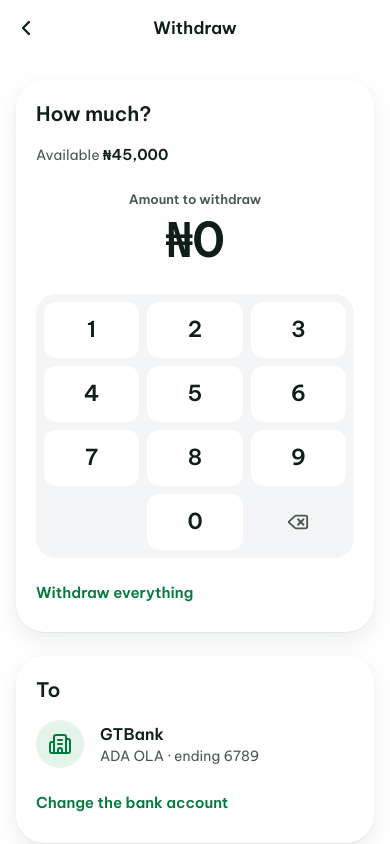
it: taking money out, for real › will not let someone withdraw more than their real balance
Click the button "4": (92, 394) [44,366,139,422]
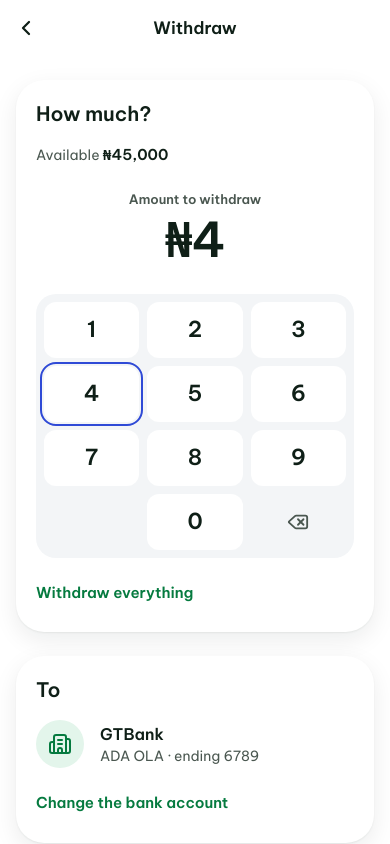
Click the button "6": (298, 394) [251,366,346,422]
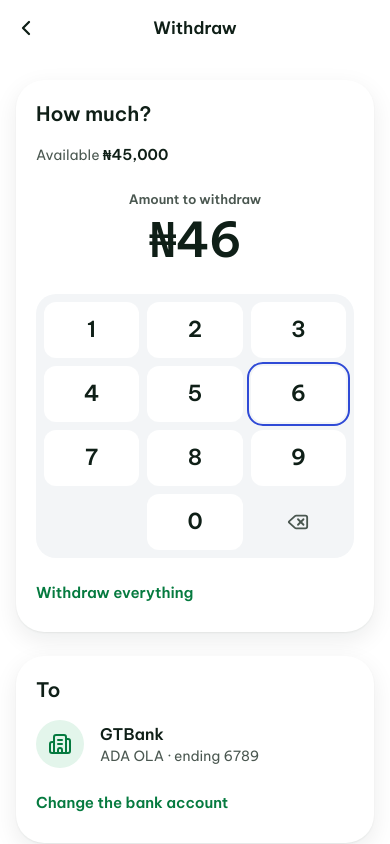
Click the button "0": (195, 522) [147,494,243,550]
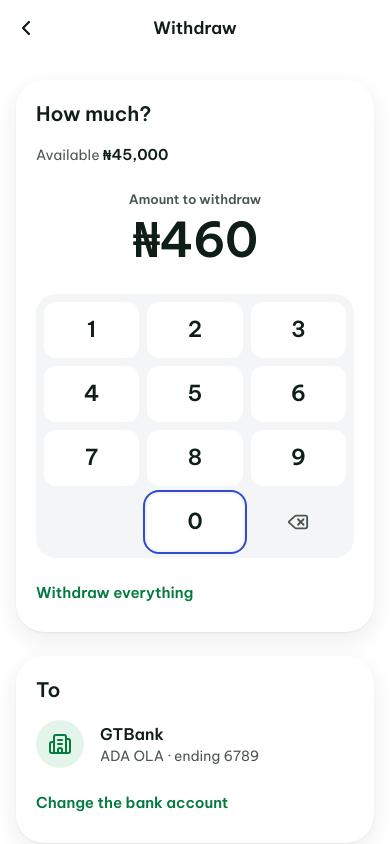
Click the button "0": (195, 522) [147,494,243,550]
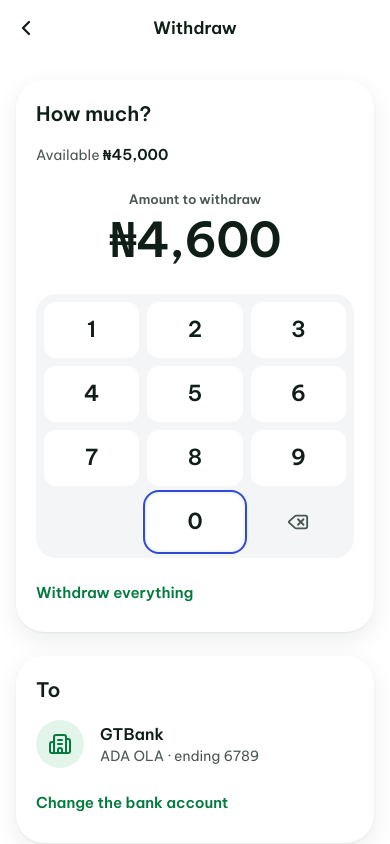
Click the button "0": (195, 522) [147,494,243,550]
(page scrolled)
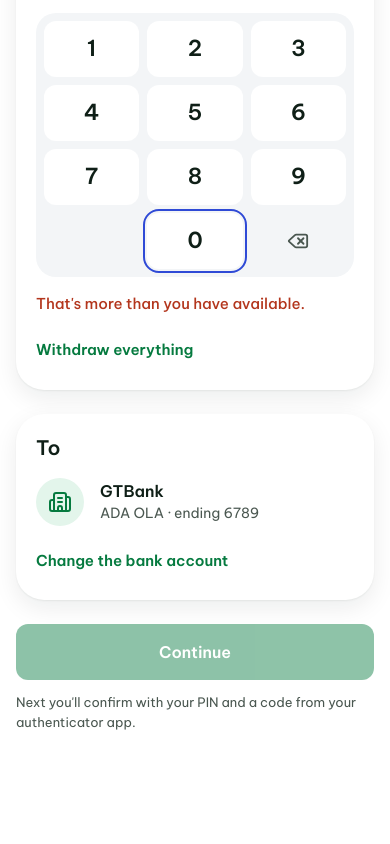
Expected: the message shows "more than you have", [36,294,305,312]
Expected: the button "Continue" is disabled, [16,624,374,680]
